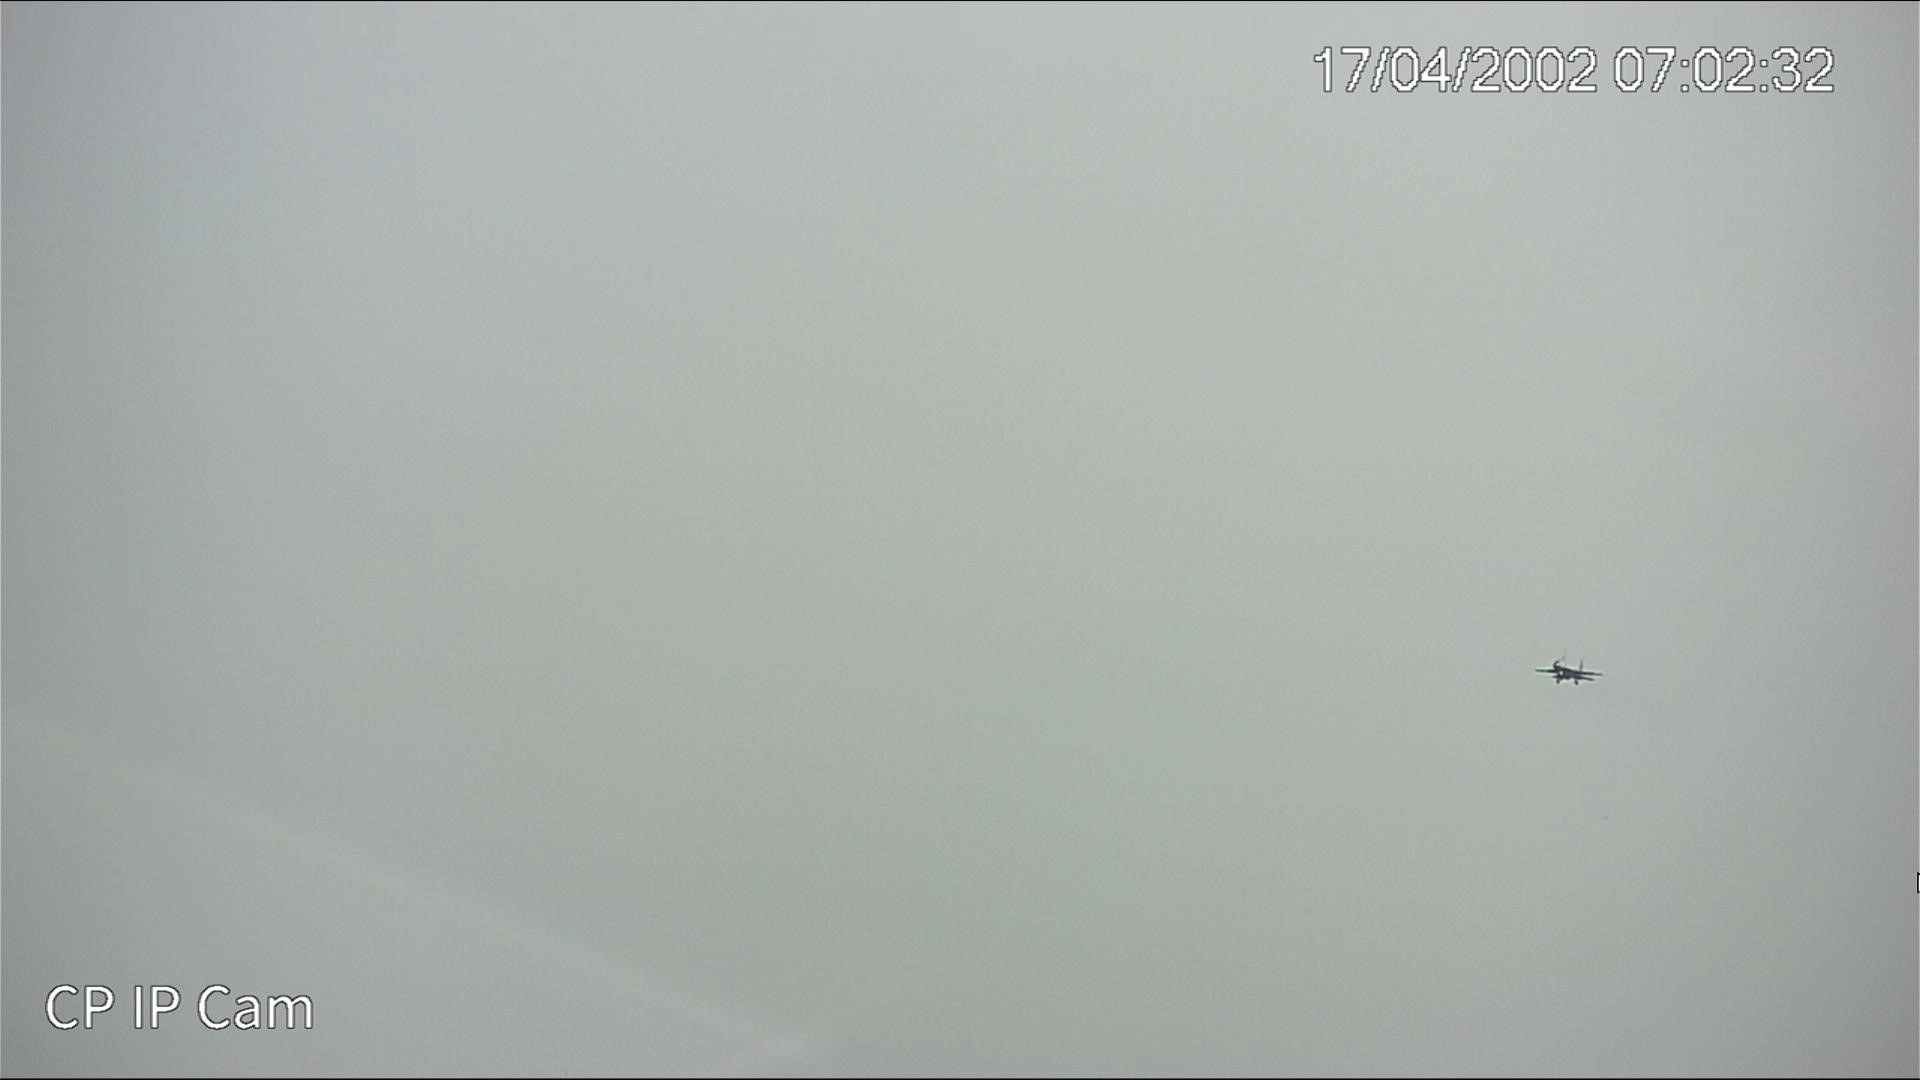SU_30: (1534, 651, 1605, 687)
